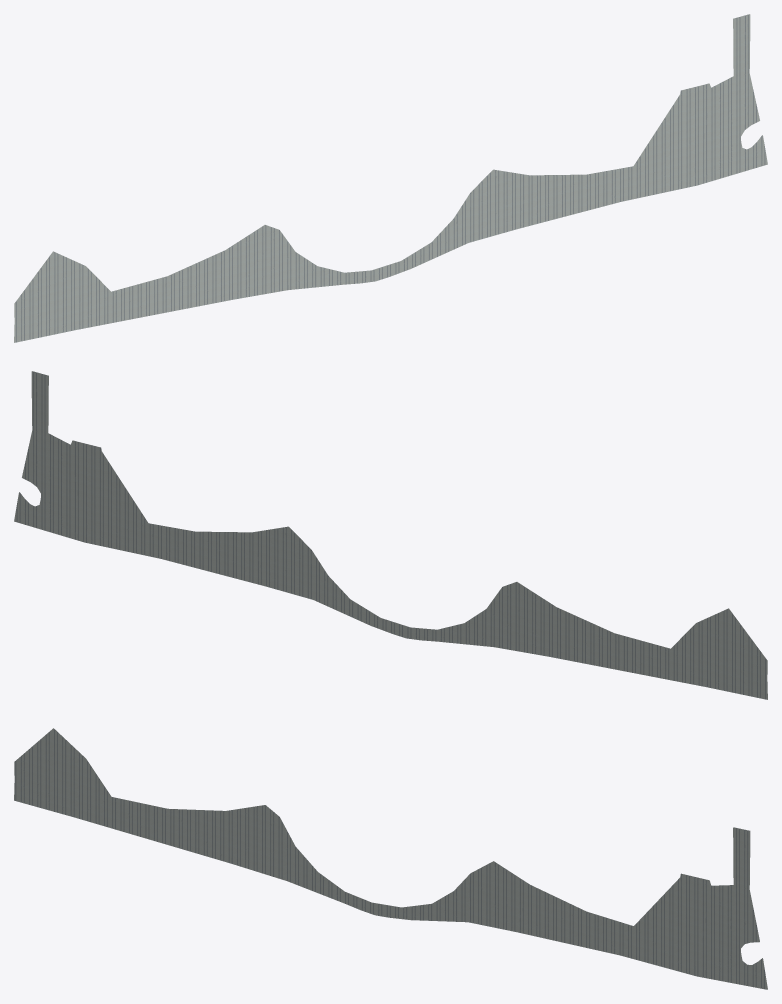
File: floor_67.obj
The picture shows the model from 3 angles, top to bottom: view 1: azimuth 30°, elevation 25°; view 2: azimuth 150°, elevation 25°; view 3: azimuth 330°, elevation 25°; orthographic projection.
Visible parts, largest first — view 1: floor_67; view 2: floor_67; view 3: floor_67.
Boxes of the visible parts, <box> form: floor_67: <box>14,14,767,342</box>; floor_67: <box>14,371,767,699</box>; floor_67: <box>14,728,767,989</box>.
Size of the model in its own units: 90.6 by 20.17 by 0.1.
1 material, 1 textured.
